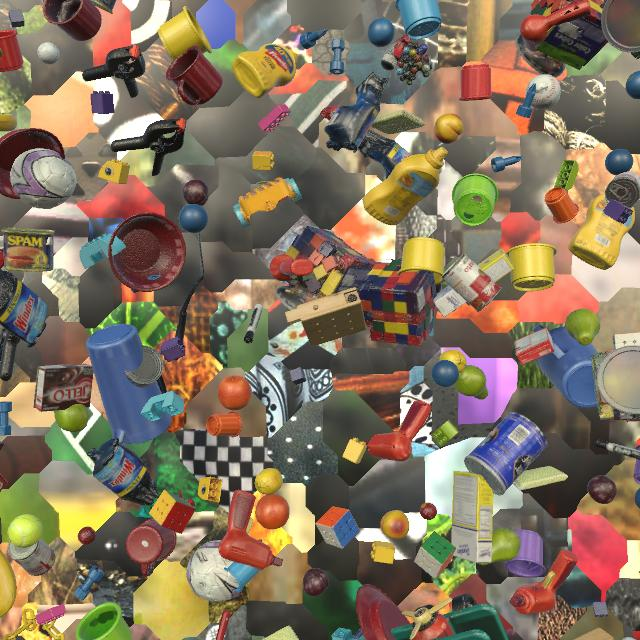ycb_002_master_chef_can: (464, 412, 548, 495)
ycb_003_cracker_box: (0, 474, 8, 492)
ycb_004_sugar_box: (433, 248, 515, 317), (451, 471, 493, 563)
ycb_005_tomato_soup_can: (441, 254, 501, 312), (7, 538, 55, 576), (605, 171, 640, 209)
ycb_006_mustard_bottle: (362, 147, 448, 226), (568, 193, 635, 270), (231, 44, 298, 98)
ycb_007_tuna_fish_can: (124, 345, 164, 387)
ycb_008_pudding_box: (33, 364, 93, 412)
ycb_009_gelatin_box: (514, 328, 555, 366)
ycb_010_potted_meat_can: (1, 228, 55, 272), (90, 0, 116, 14)
ycb_011_banana: (0, 550, 17, 618), (0, 112, 17, 132)
ycb_014_lemon: (255, 468, 283, 495), (439, 349, 466, 373)
ycb_015_peach: (434, 113, 464, 144), (380, 510, 410, 539)
ycb_016_pear: (479, 528, 520, 565), (565, 309, 600, 345), (454, 365, 488, 400), (54, 404, 89, 432)
ycb_017_orange: (255, 493, 290, 529), (217, 376, 252, 410)
ycb_018_plum: (587, 475, 617, 504), (303, 568, 329, 597), (183, 180, 209, 206)
